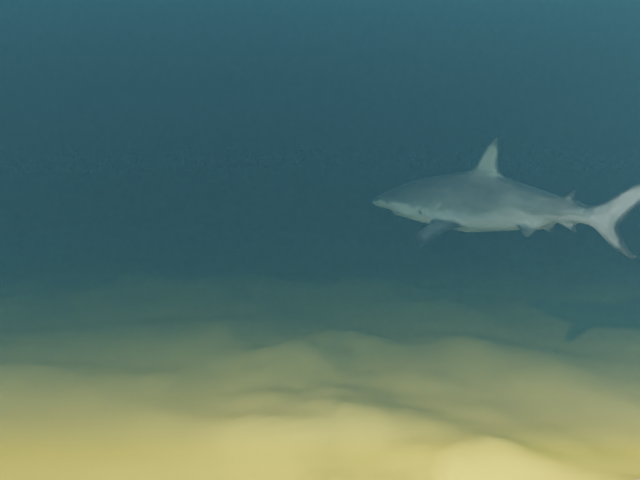Carribean Shark.001: (372, 137, 640, 258)
